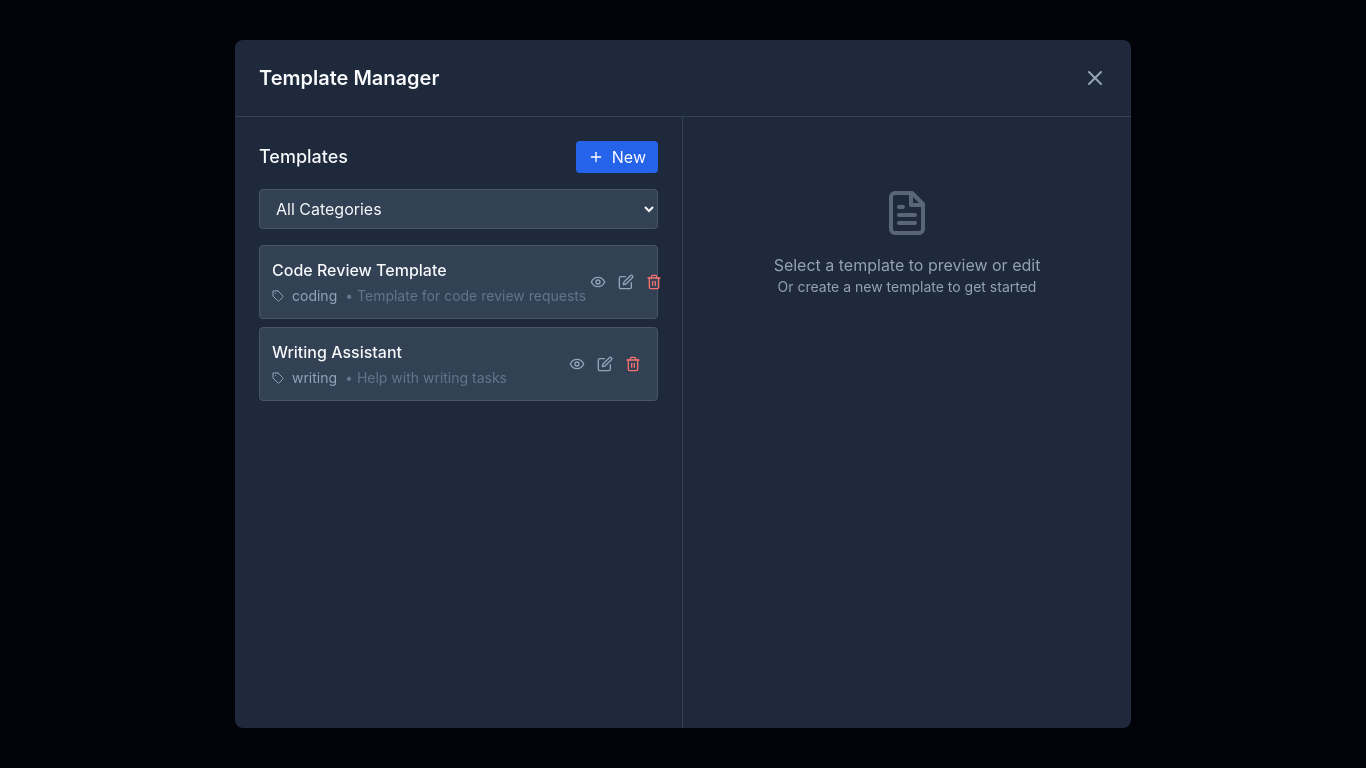
Scenario: TemplateManager › filters templates by category
The width and height of the screenshot is (1366, 768).
Select "coding (1)" in the dropdown showing "All Categories". click: (458, 209)
box: top-left (259, 189), bottom-right (658, 229)
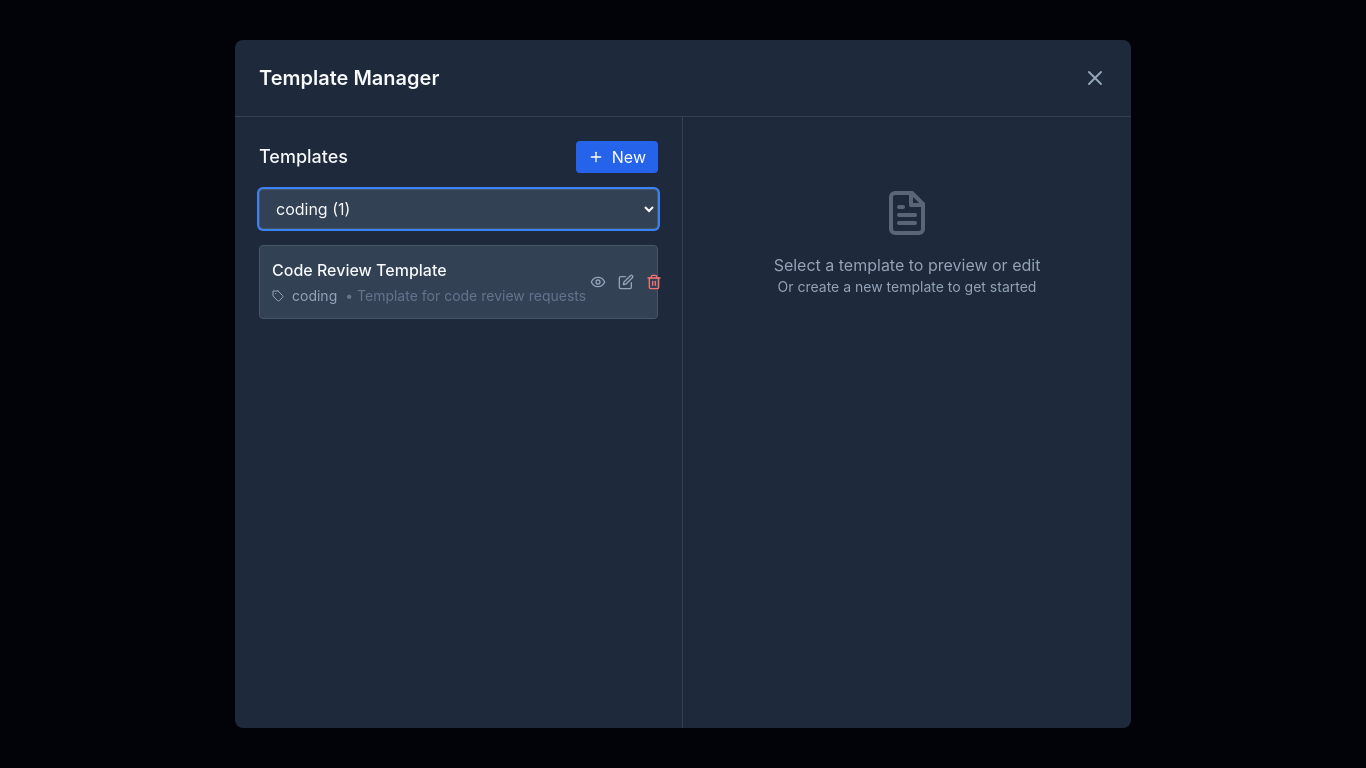
Expected: the heading "Code Review Template" is shown, top-left (272, 260), bottom-right (447, 280)
Now the heading "Writing Assistant" is gone
